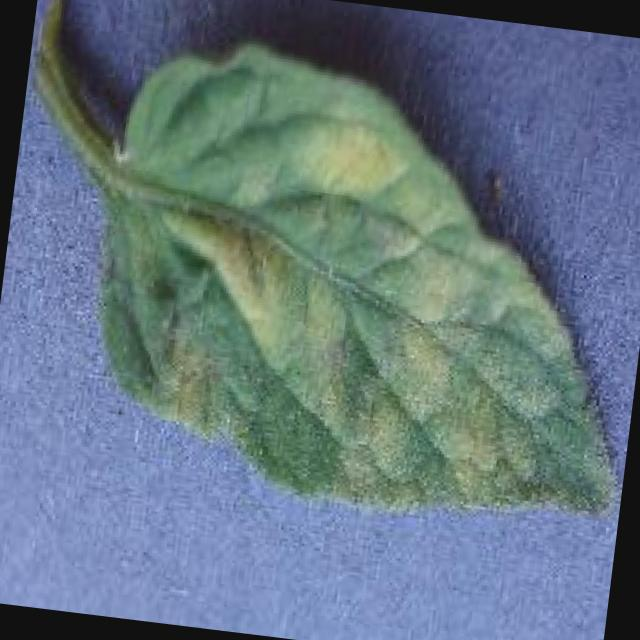leaf mold: (26, 0, 619, 514)
